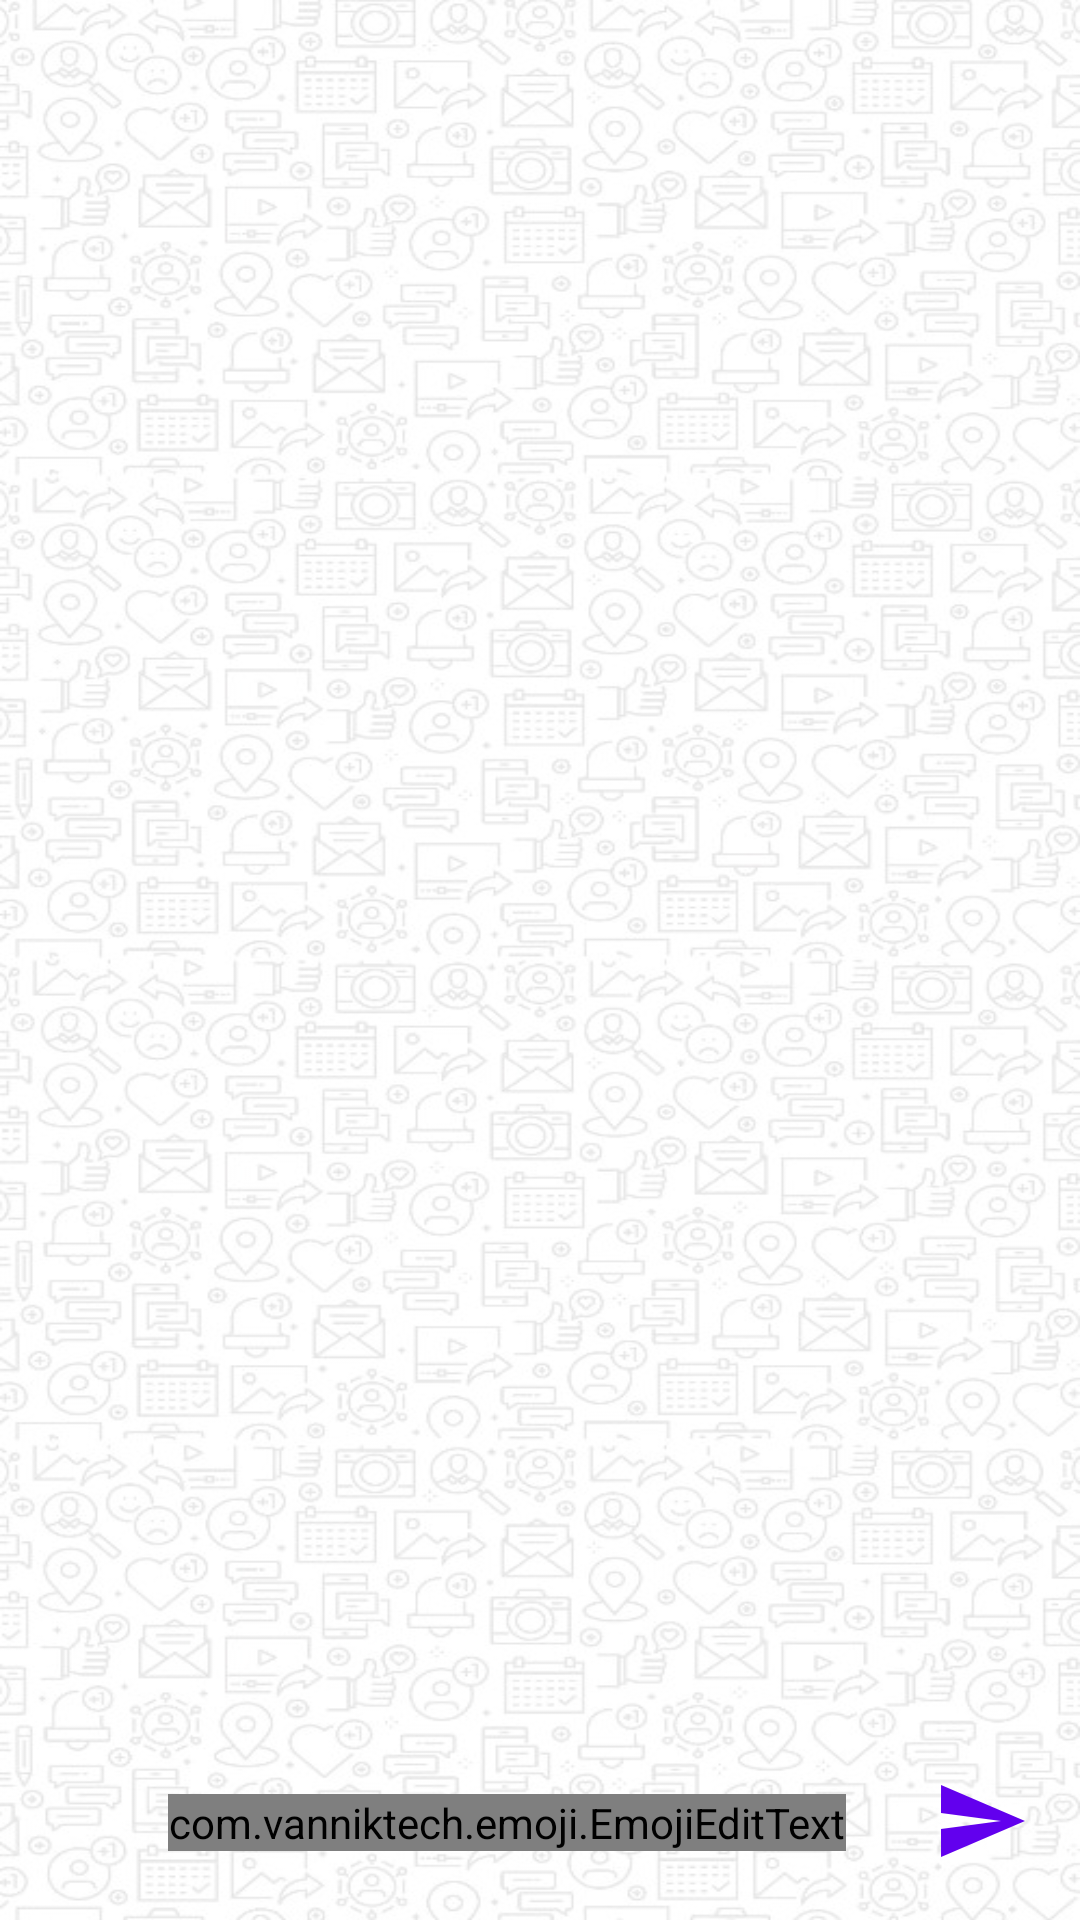

Screen size 1080 x 1920. Icon name, then its center in pixels as (x=x, y=y):
send: (x=966, y=1827)
